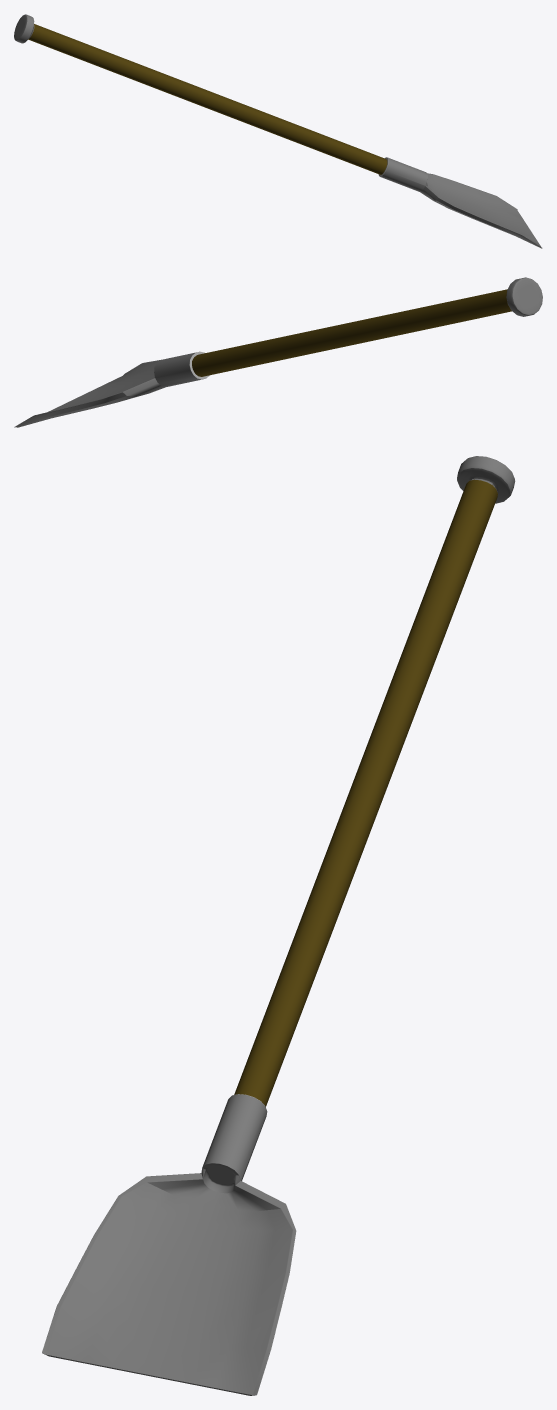
File: schauffel.fbx
3 renders of one model, top to bottom at view 1: azimuth 30°, elevation 25°; view 2: azimuth 150°, elevation 25°; view 3: azimuth 270°, elevation 25°, orthographic. The views are drawn at different scales.
Visible parts, largest first — view 1: schaufel; view 2: schaufel; view 3: schaufel.
Boxes of the visible parts, <box> form: schaufel: <box>14,14,542,248</box>; schaufel: <box>14,277,542,427</box>; schaufel: <box>42,456,515,1395</box>.
Size of the model in its own units: 26.78 by 14.87 by 12.33.
